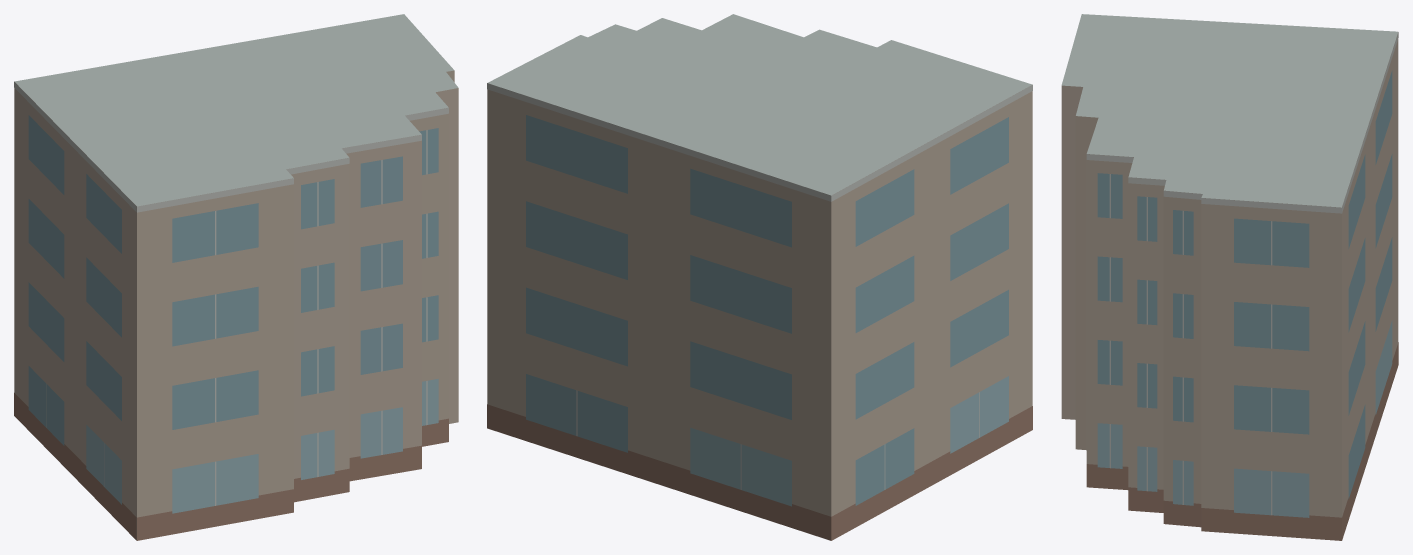
Rendered from survey-upis-32683264.glb.
3 views of the same model, side by side, from view 1: azimuth 30°, elevation 25°; view 2: azimuth 150°, elevation 25°; view 3: azimuth 270°, elevation 25° (orthographic). The views are drawn at different scales.
Parts seen in each view (by area): view 1: survey-upis-32683264.tmp; view 2: survey-upis-32683264.tmp; view 3: survey-upis-32683264.tmp.
Boxes of the visible parts, x1=… form: survey-upis-32683264.tmp: x1=14, y1=14, x2=458, y2=540; survey-upis-32683264.tmp: x1=487, y1=14, x2=1032, y2=540; survey-upis-32683264.tmp: x1=1061, y1=14, x2=1398, y2=540.
Bounding box in the file's own units: 16.69 × 13.4 × 12.29.
